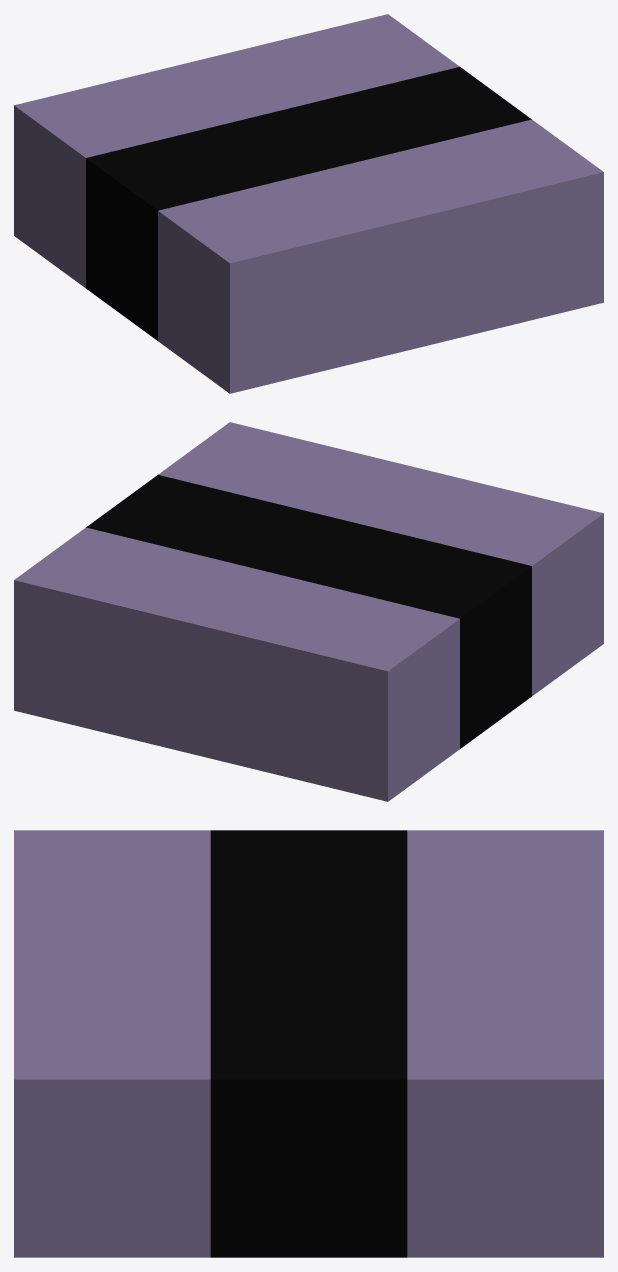
Rendered from spinning_blades_path_a_segment.obj.
3 views of the same model, one above another, from view 1: azimuth 30°, elevation 25°; view 2: azimuth 150°, elevation 25°; view 3: azimuth 270°, elevation 25° (orthographic). The views are drawn at different scales.
Size of the model in its own units: 0.3 by 0.1 by 0.3.
1 material, 1 textured.
